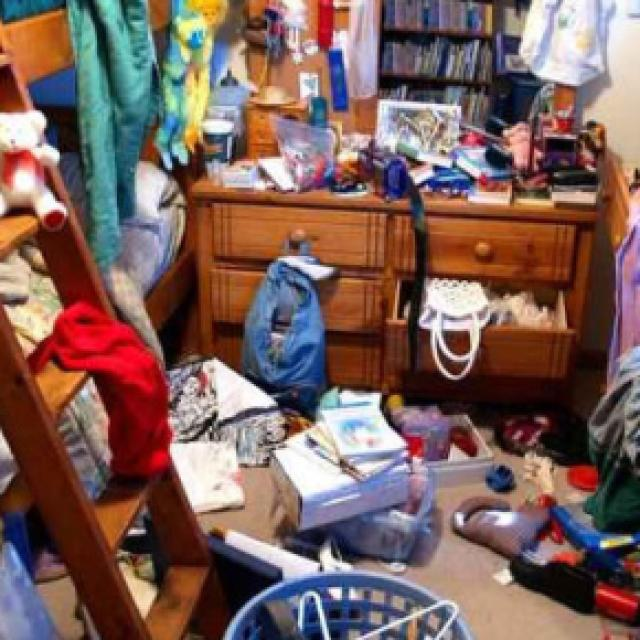scattered-items: (273, 437, 640, 640), (204, 96, 630, 217), (237, 232, 371, 418)
